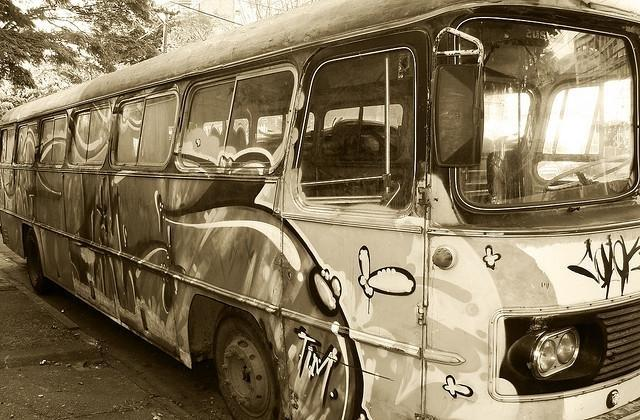bus: (3, 0, 639, 415)
